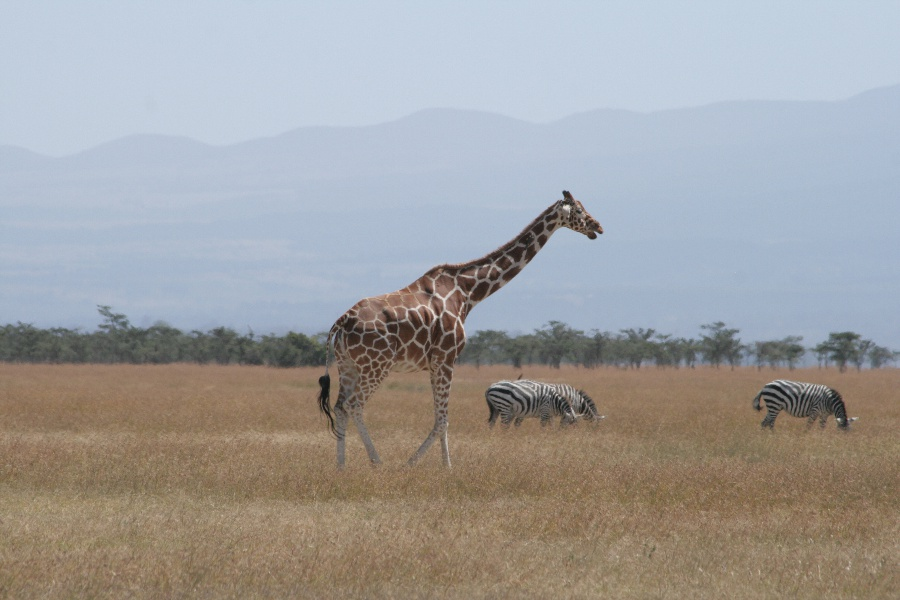giraffe: (315, 179, 609, 472)
